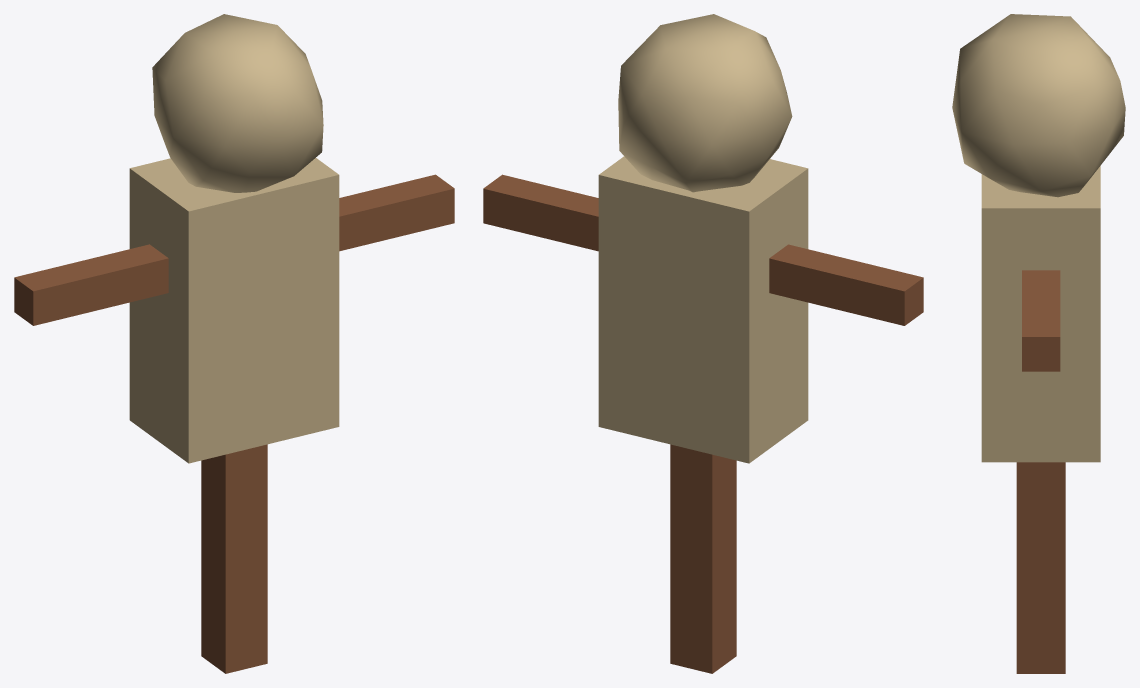
Rendered from training_dummy.glb.
The picture shows the model from 3 angles, left to right: view 1: azimuth 30°, elevation 25°; view 2: azimuth 150°, elevation 25°; view 3: azimuth 270°, elevation 25°; orthographic projection.
Visible parts, largest first — view 1: torso, head, pole, arms; view 2: torso, head, pole, arms; view 3: torso, head, pole, arms.
Part boxes in pixels (x1,y1,x2,y2): torso: (129, 158, 339, 463); head: (152, 14, 323, 192); pole: (201, 444, 267, 673); arms: (14, 174, 454, 325); torso: (598, 156, 808, 463); head: (618, 14, 792, 192); pole: (670, 444, 736, 673); arms: (483, 174, 923, 325); torso: (981, 166, 1100, 462); head: (952, 14, 1125, 197); pole: (1016, 462, 1065, 673); arms: (1022, 270, 1060, 371).
Size of the model in its own units: 1.4 by 1.99 by 0.4949.
